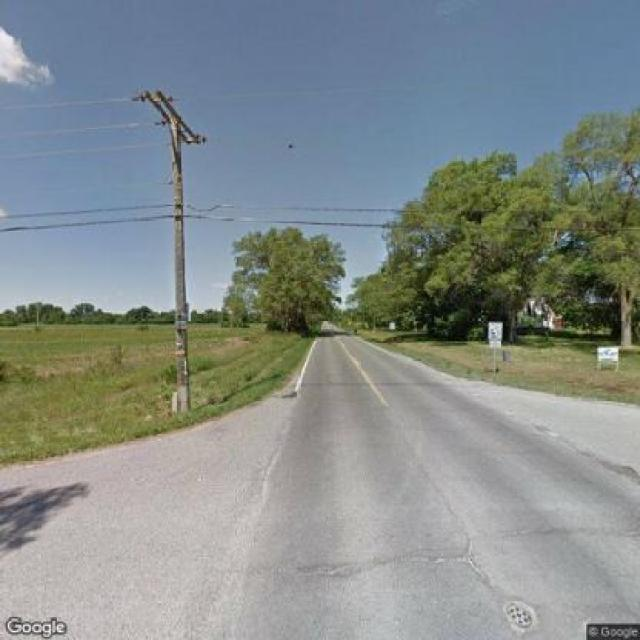pole: (123, 80, 214, 414)
